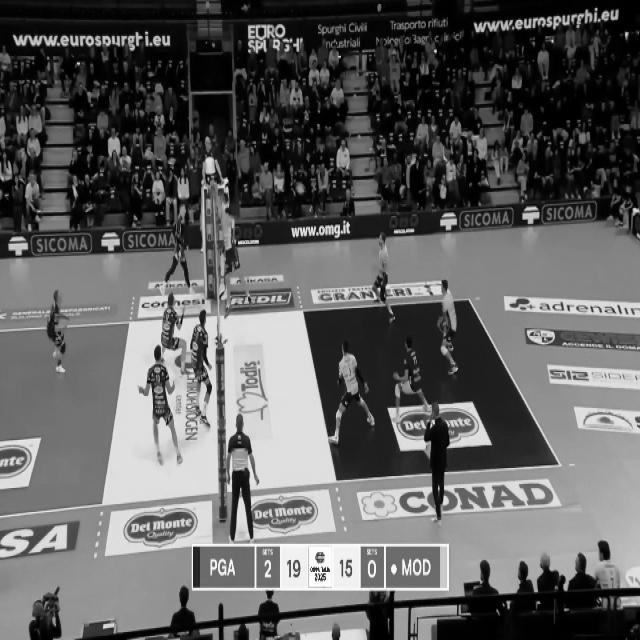volleyball court: (1, 298, 563, 520)
